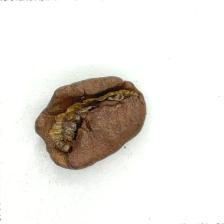NG: (34, 87, 86, 170)
